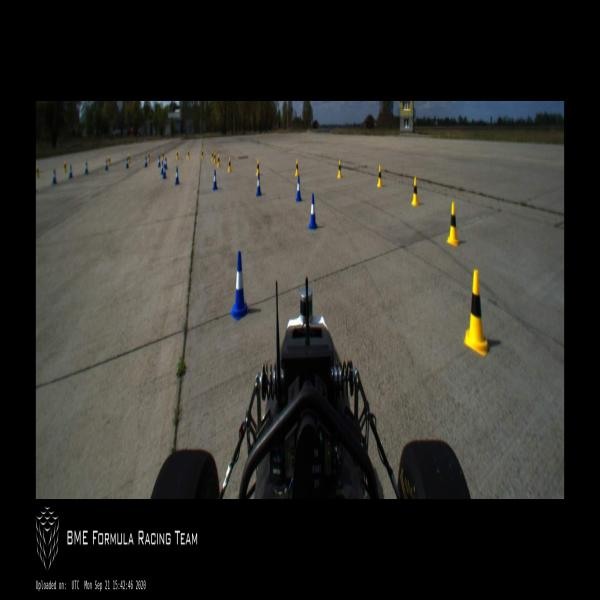blue_cone: (230, 251, 248, 320), (309, 195, 318, 229), (256, 173, 262, 196), (296, 176, 301, 200), (213, 170, 217, 190), (52, 169, 57, 185), (175, 167, 179, 184), (68, 164, 72, 179), (144, 154, 148, 168), (125, 156, 129, 169), (157, 155, 161, 167), (85, 160, 88, 174), (105, 157, 108, 170), (163, 167, 166, 178), (161, 163, 163, 175), (166, 160, 168, 169)
yellow_cone: (464, 271, 488, 356), (447, 202, 460, 248), (412, 178, 419, 205), (377, 165, 383, 187), (295, 159, 299, 176), (228, 157, 232, 172), (338, 159, 341, 178), (63, 160, 67, 173), (147, 150, 151, 162), (256, 159, 259, 174), (217, 154, 220, 168), (201, 150, 204, 160), (212, 150, 214, 162), (108, 155, 110, 167), (128, 152, 130, 164), (162, 150, 164, 162), (176, 149, 178, 160), (214, 153, 216, 163), (188, 150, 189, 159)
